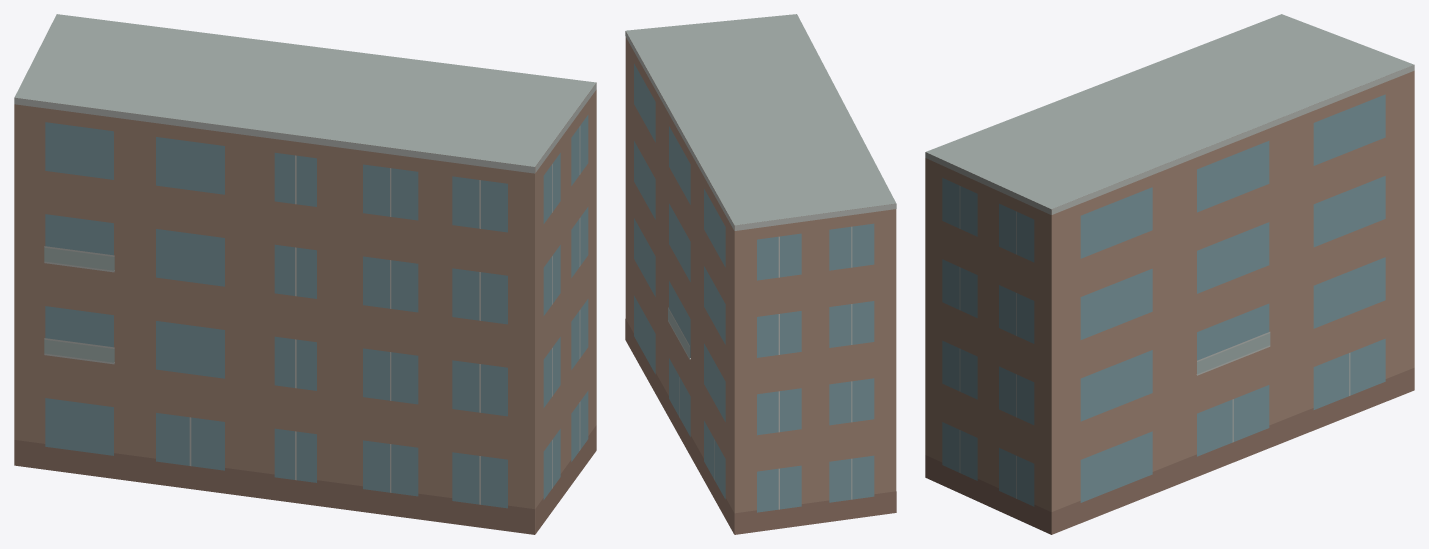
Rendered from survey-upis-33003151.glb.
3 renders of one model, left to right at view 1: azimuth 30°, elevation 25°; view 2: azimuth 150°, elevation 25°; view 3: azimuth 270°, elevation 25°, orthographic. The views are drawn at different scales.
Visible parts, largest first — view 1: survey-upis-33003151.tmp; view 2: survey-upis-33003151.tmp; view 3: survey-upis-33003151.tmp.
Part boxes in pixels (<box>): survey-upis-33003151.tmp: <box>14,14,596,534</box>; survey-upis-33003151.tmp: <box>625,14,896,534</box>; survey-upis-33003151.tmp: <box>925,14,1414,534</box>.
Bounding box in the file's own units: 17.37 × 13.5 × 18.39.
